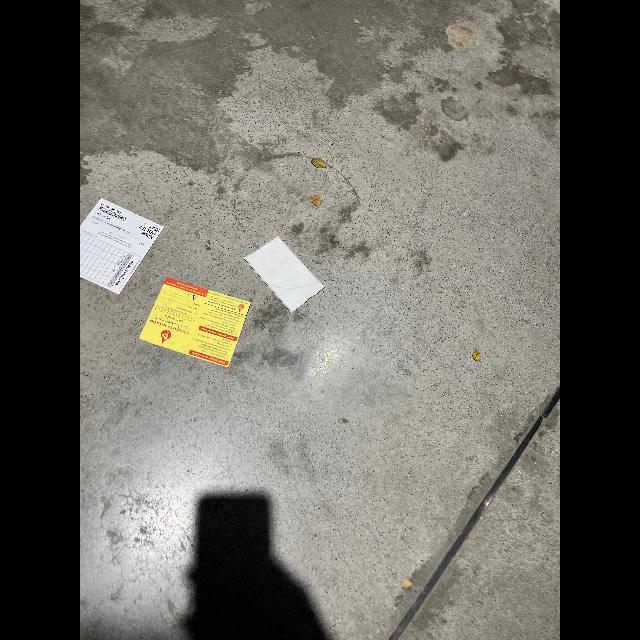scrap_paper: (134, 268, 252, 379), (80, 195, 166, 302), (241, 234, 329, 316)
